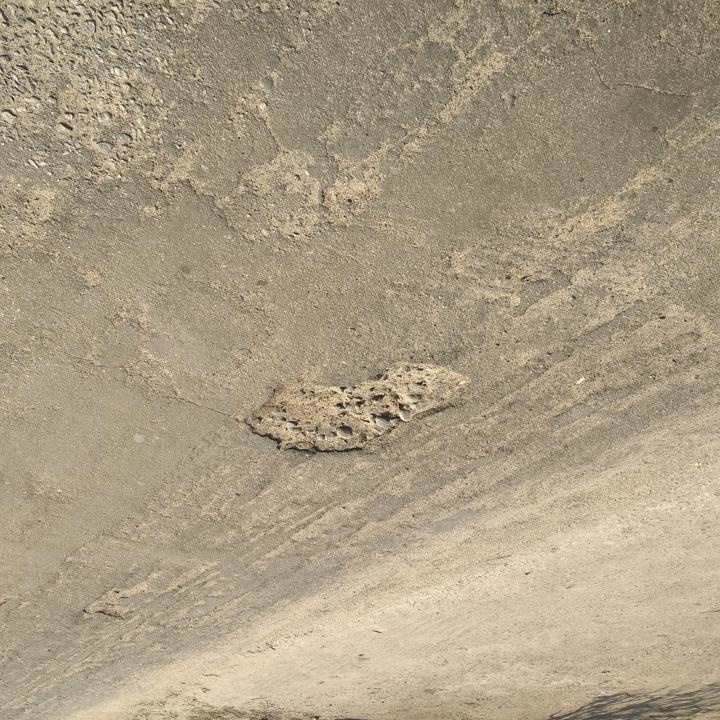pothole: (241, 361, 475, 458), (78, 580, 146, 625)
